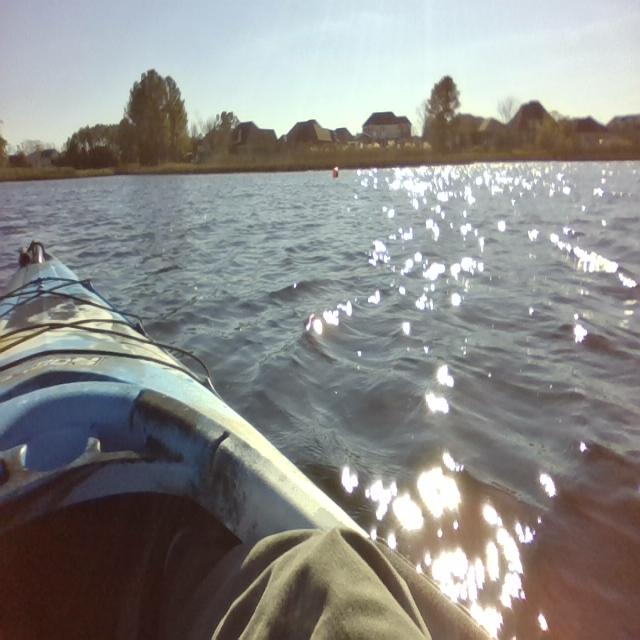Buoy: (330, 164, 342, 181)
